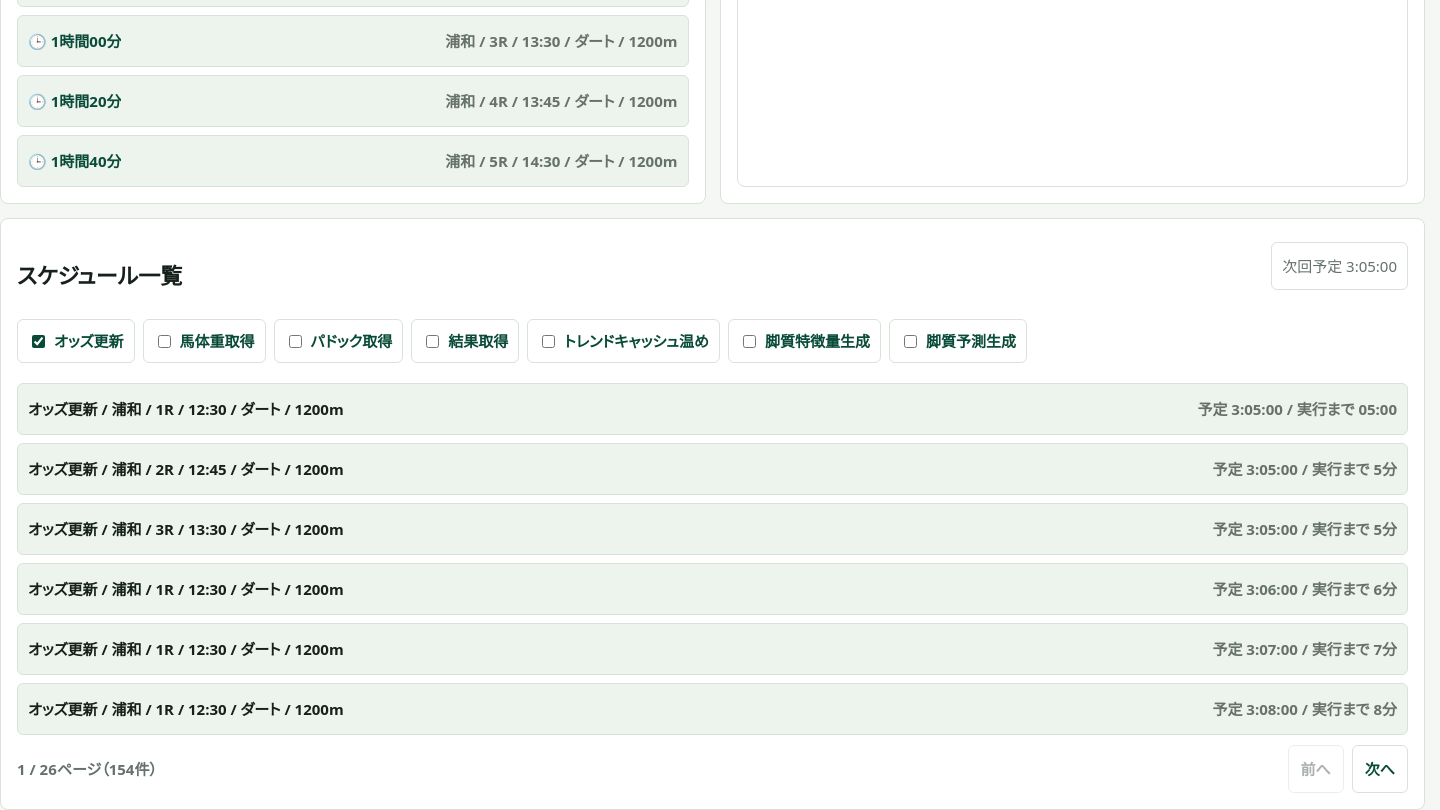
HomeRealtime › paginates the scheduled task list and shows page change after clicking next
(page scrolled)
Expected: the text "1 / 26ページ（154件）" is shown, [17,754,157,784]
Click the button "次へ". click: [1380, 769]
box: [1352,745,1408,793]
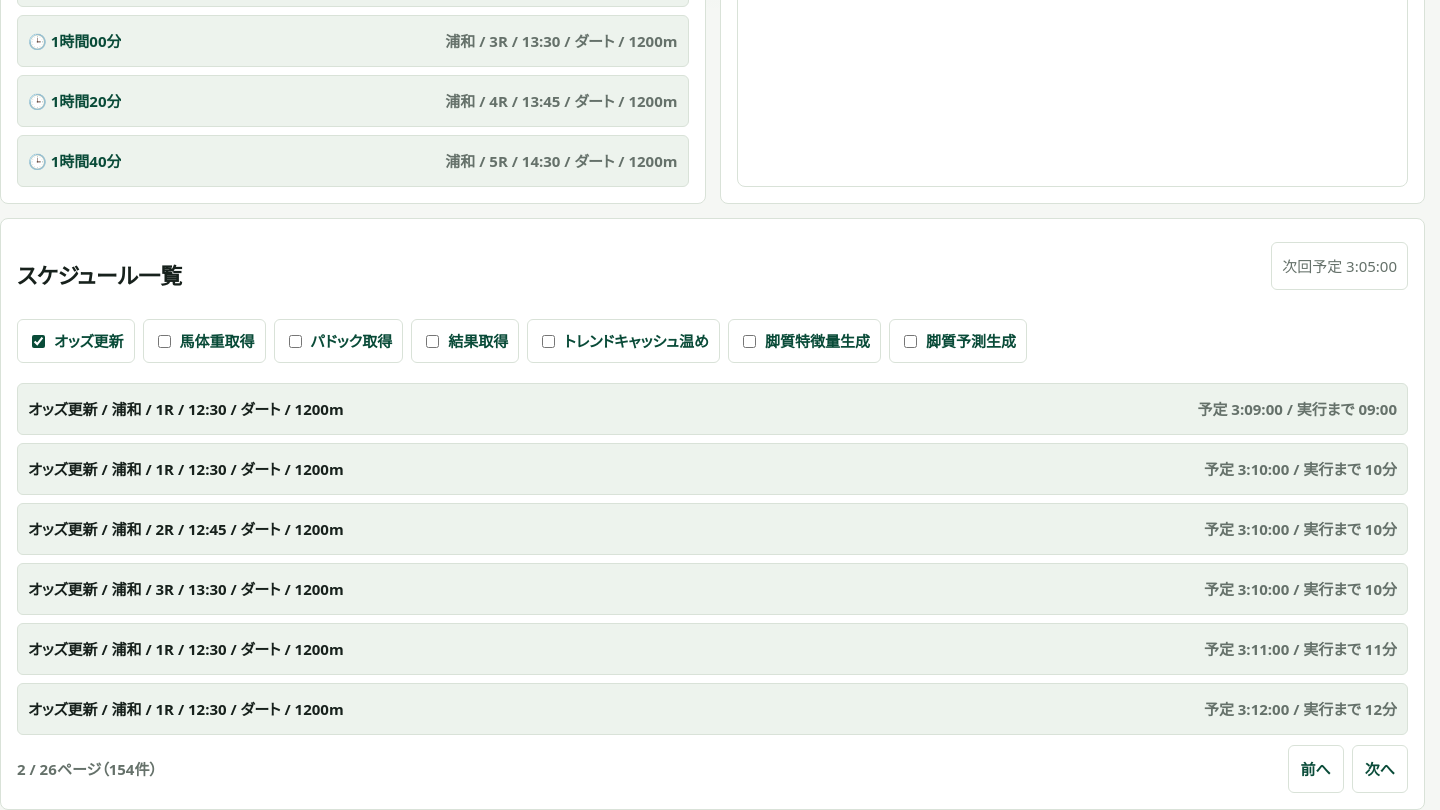
Result: the text "2 / 26ページ（154件）" is shown at [17,754,157,784]
